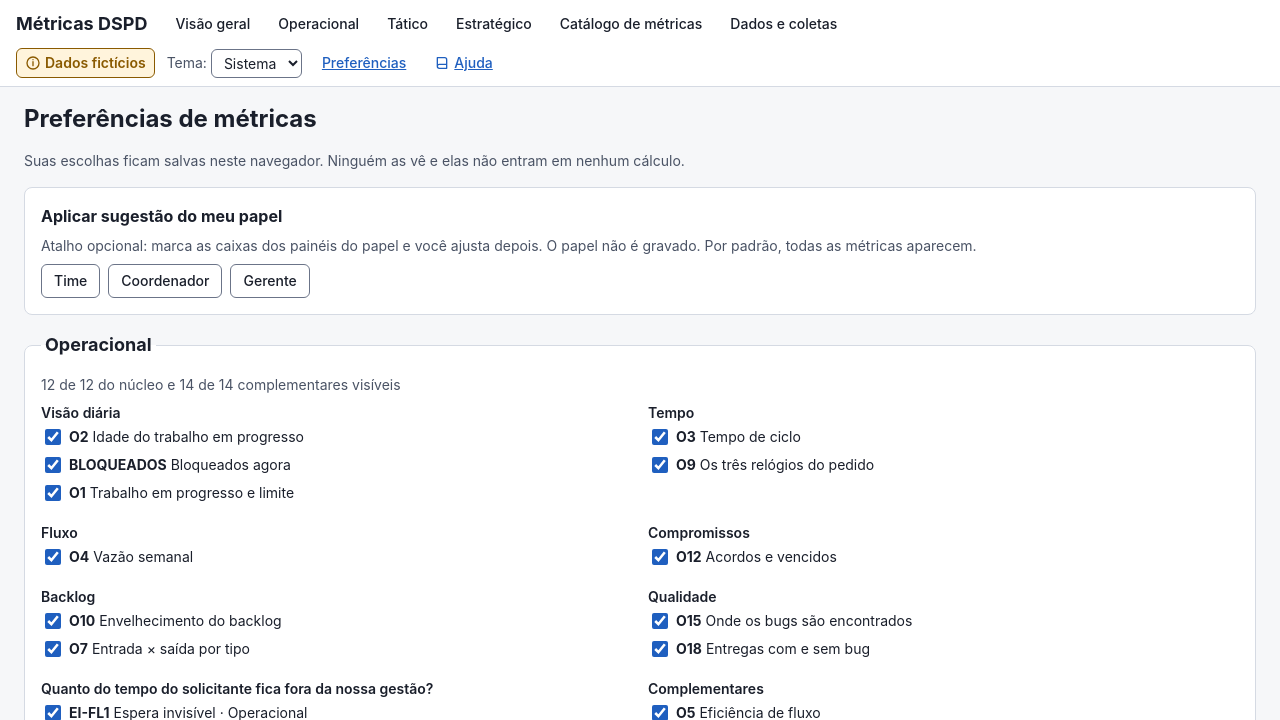
Test: perfil /preferencias › "Aplicar sugestão do meu papel" só marca caixas e não grava o papel
This screenshot has width=1280, height=720.
What coordinates should you click on to do the following:
click the button with aria-label "Aplicar sugestão do papel Gerente"
I would click on:
 (270, 281)
Its box is left=230, top=264, right=310, bottom=298.
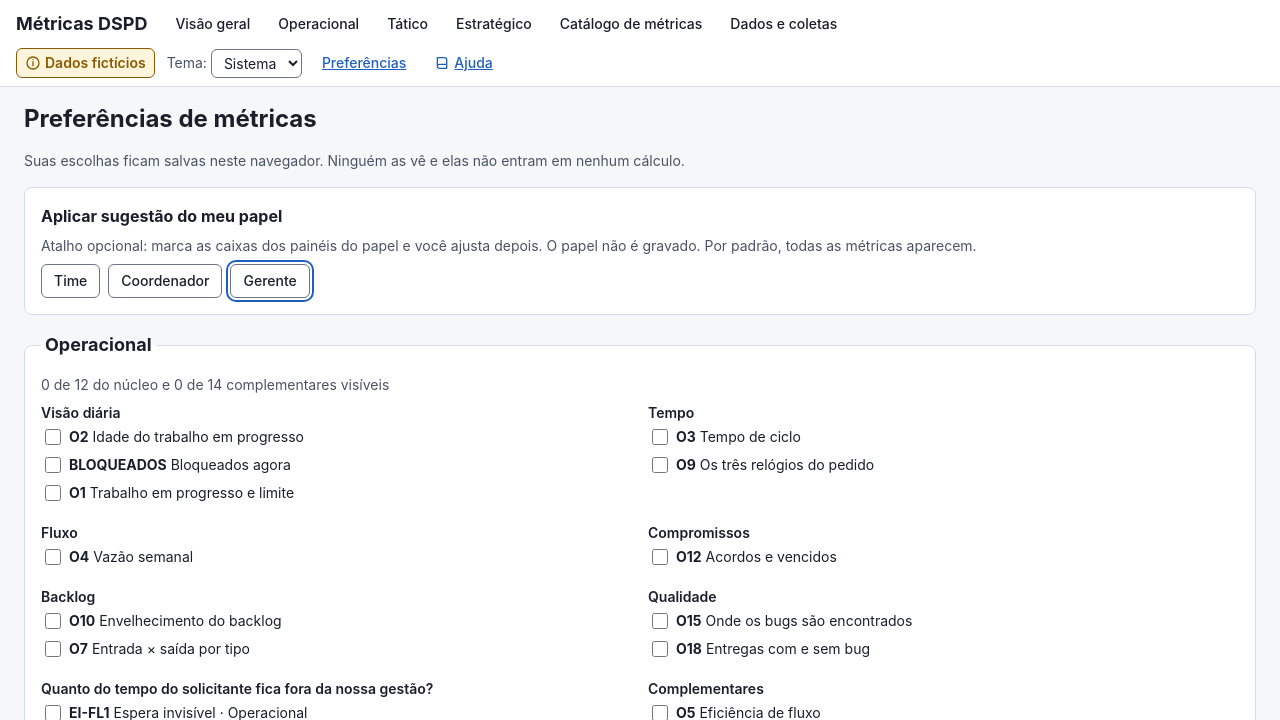
Check: the text with test id "contador-operacional" reads "0 de 12 do núcleo e 0 de 14 complementares visíveis", box left=41, top=376, right=389, bottom=393
What coordinates should you click on to do the following:
click the button with aria-label "Aplicar sugestão do papel Time"
I would click on:
 (71, 281)
Its box is left=41, top=264, right=100, bottom=298.
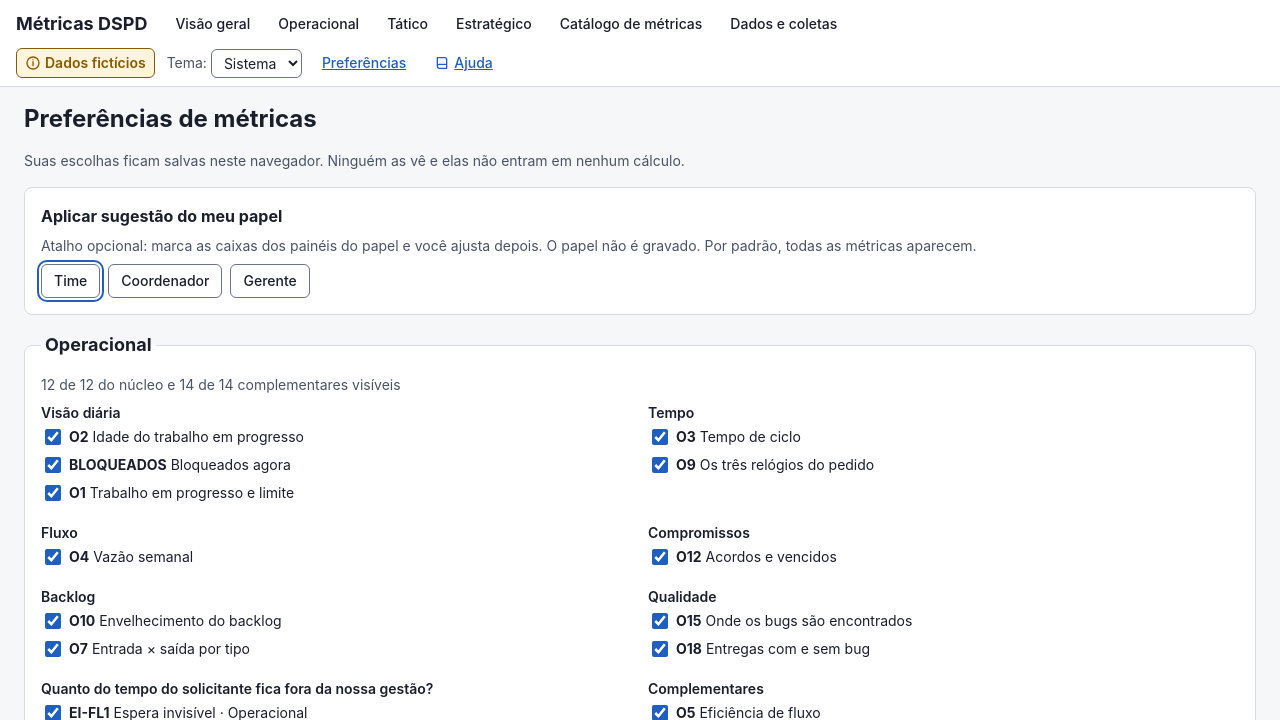
Check: the text with test id "contador-operacional" reads "12 de 12 do núcleo e 14 de 14 complementares visíveis", box left=41, top=376, right=401, bottom=393
What coordinates should you click on to do the following:
click the button with aria-label "Aplicar sugestão do papel Coordenador"
I would click on:
 (165, 281)
Its box is left=108, top=264, right=222, bottom=298.
(page scrolled)
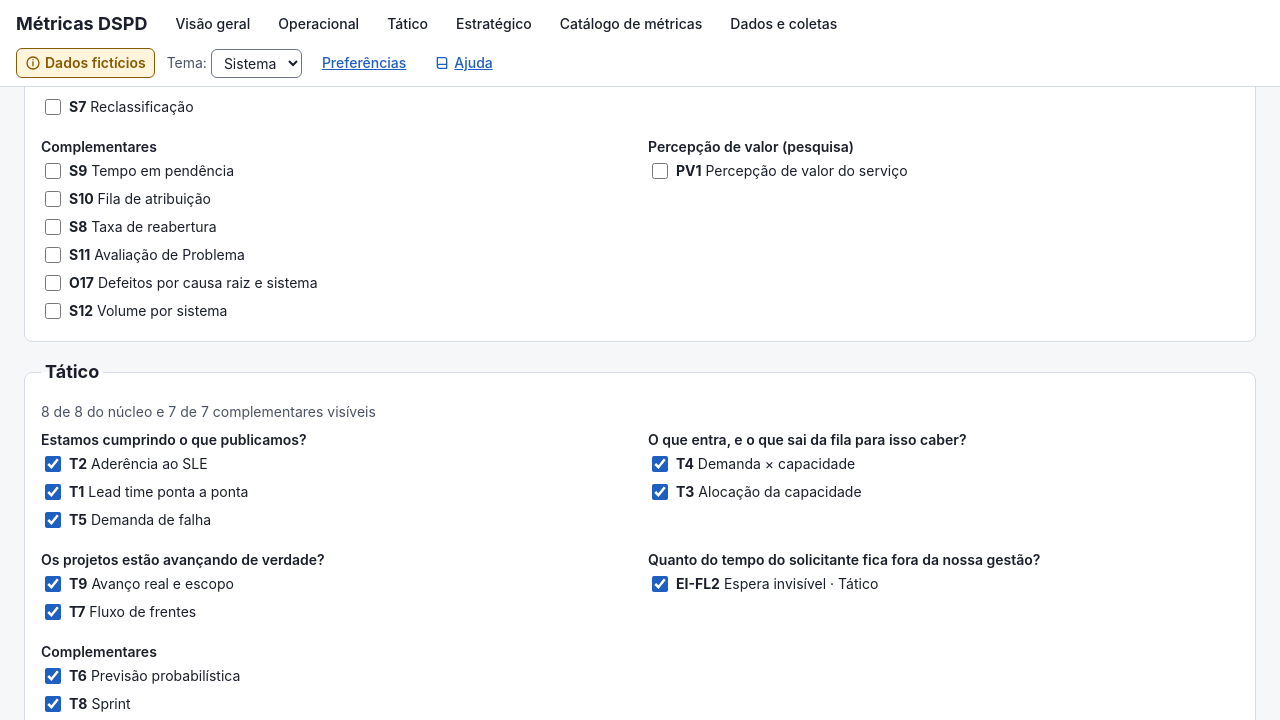
Check: the text with test id "contador-tatico" reads "8 de 8 do núcleo e 7 de 7 complementares visíveis", box left=41, top=403, right=376, bottom=420
